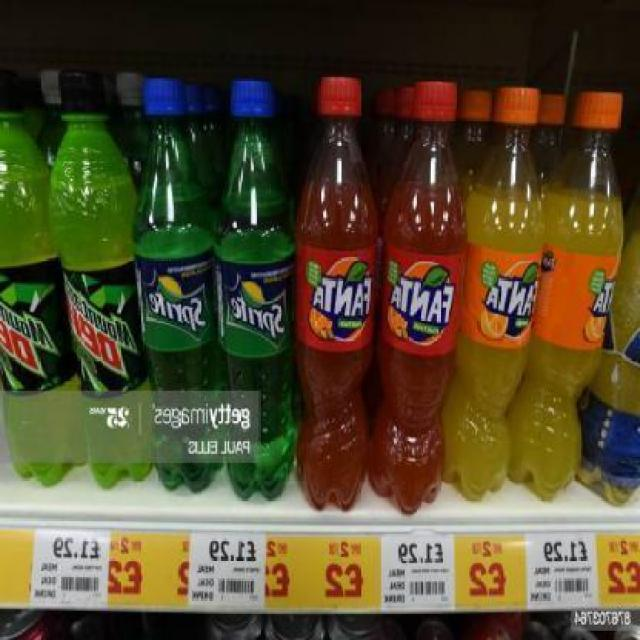Drinks: (299, 73, 383, 510), (213, 79, 301, 496), (382, 80, 466, 514), (134, 79, 215, 495), (465, 84, 544, 502), (543, 90, 623, 496), (59, 68, 135, 483), (1, 71, 59, 486)
